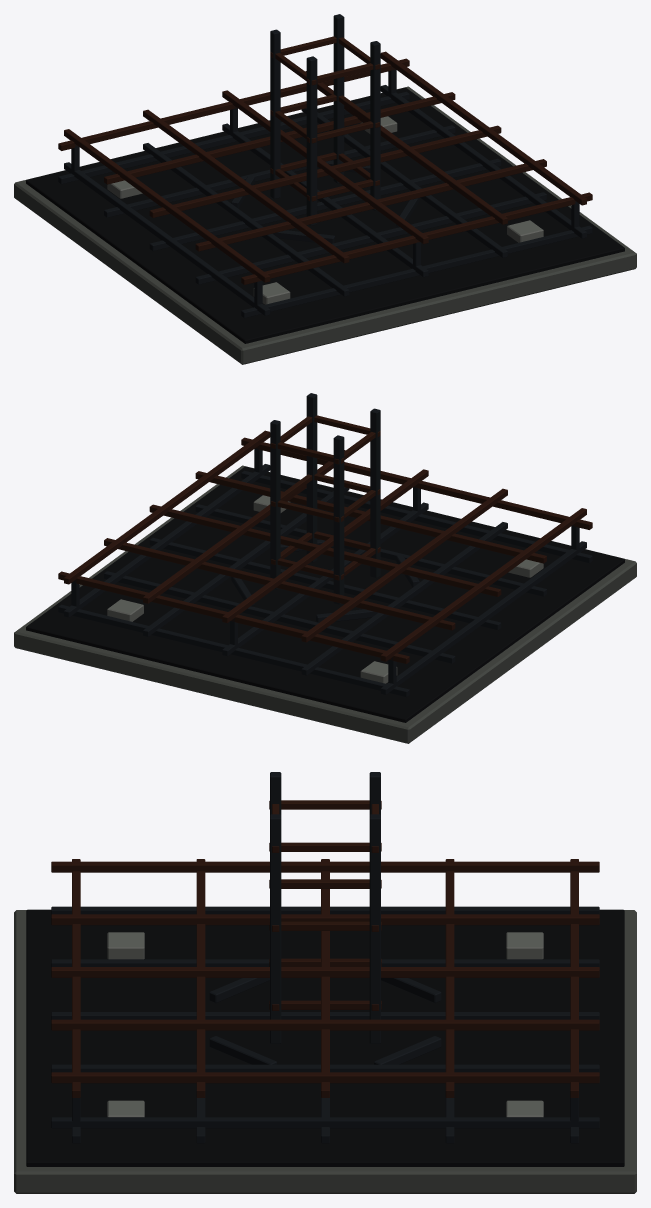
Rendered from mod_rebar_foundation_cage_2m.glb.
3 views of the same model, one above another, from view 1: azimuth 30°, elevation 25°; view 2: azimuth 150°, elevation 25°; view 3: azimuth 270°, elevation 25° (orthographic). The views are drawn at different scales.
Visible parts, largest first — view 1: Mod_Rebar_Foundation_Cage_2m; view 2: Mod_Rebar_Foundation_Cage_2m; view 3: Mod_Rebar_Foundation_Cage_2m.
Part boxes in pixels (bbox=[...]): Mod_Rebar_Foundation_Cage_2m: bbox=[14, 14, 636, 364]; Mod_Rebar_Foundation_Cage_2m: bbox=[14, 393, 636, 743]; Mod_Rebar_Foundation_Cage_2m: bbox=[14, 772, 636, 1193].
Bounding box in the file's own units: 2 × 0.95 × 2.
